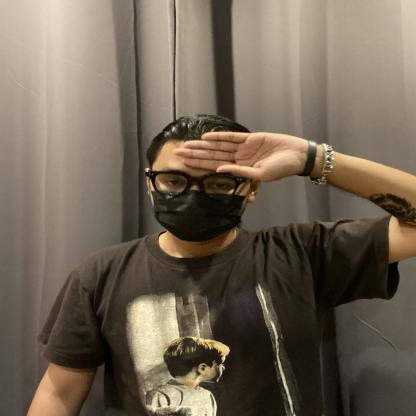Sick: (96, 92, 358, 234)
